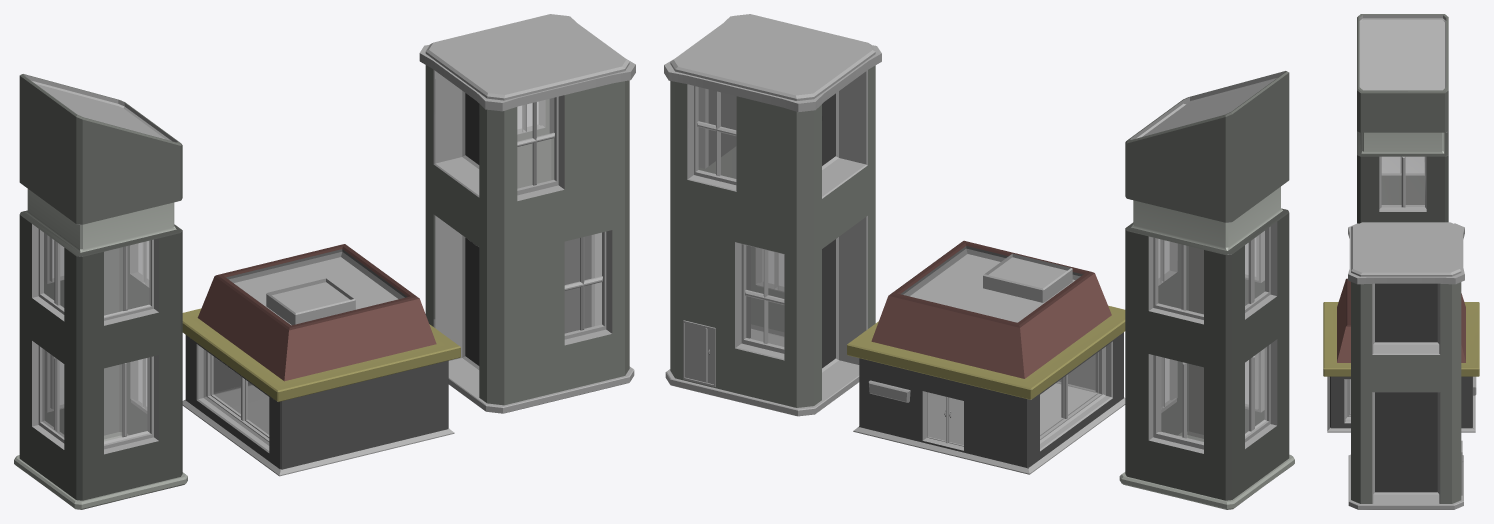
Rendered from Buildings2.fbx.
The picture shows the model from 3 angles, left to right: view 1: azimuth 30°, elevation 25°; view 2: azimuth 150°, elevation 25°; view 3: azimuth 270°, elevation 25°; orthographic projection. The views are drawn at different scales.
Parts seen in each view (by area): view 1: polySurface1, Building_1, Building_4; view 2: polySurface1, Building_1, Building_4; view 3: polySurface1, Building_1, Building_4.
Boxes of the visible parts, <box> form: polySurface1: <box>419,14,635,413</box>; Building_1: <box>14,74,187,509</box>; Building_4: <box>182,244,460,476</box>; polySurface1: <box>664,14,881,416</box>; Building_1: <box>1119,71,1294,509</box>; Building_4: <box>847,240,1125,474</box>; polySurface1: <box>1348,222,1464,509</box>; Building_1: <box>1357,14,1448,223</box>; Building_4: <box>1323,278,1479,432</box>.
Size of the model in its own units: 41.05 by 27.59 by 13.27.
